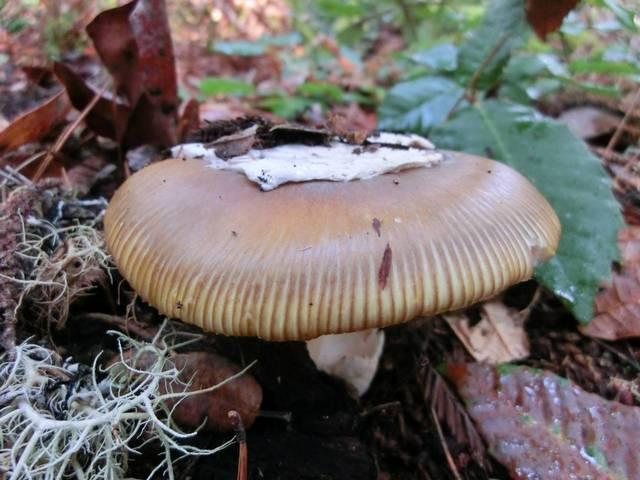Edible Mushroom: (102, 123, 562, 399)
